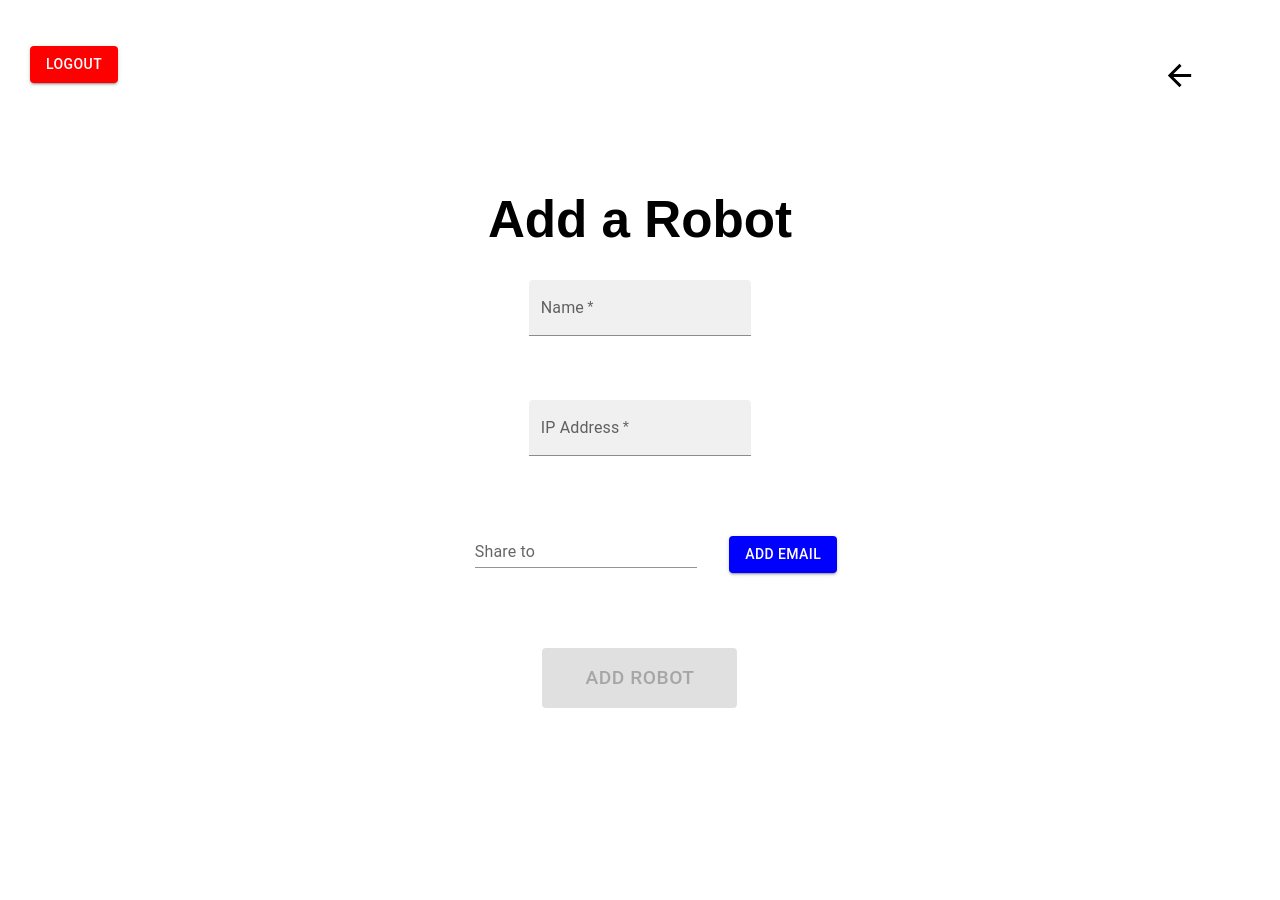
Test case: AddRobotPage › adds a robot, updates profiles, shows snackbar and supports copy ID
The image size is (1280, 900).
Type "My Robot" into the field labelled "Name *" at x=640, y=308, box [529, 280, 751, 336]
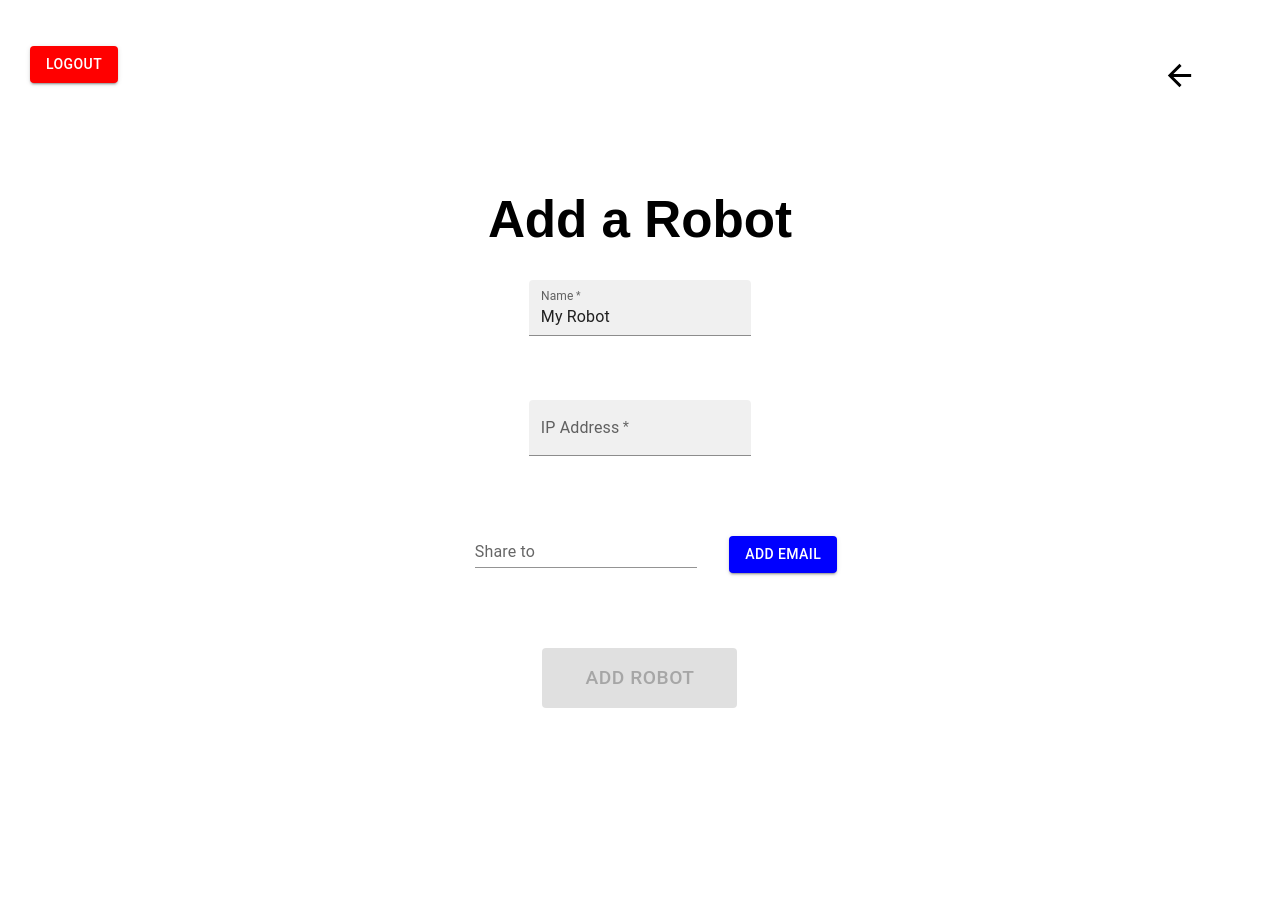
Type "10.0.0.42" into the field labelled "IP Address *" at x=640, y=428, box [529, 400, 751, 456]
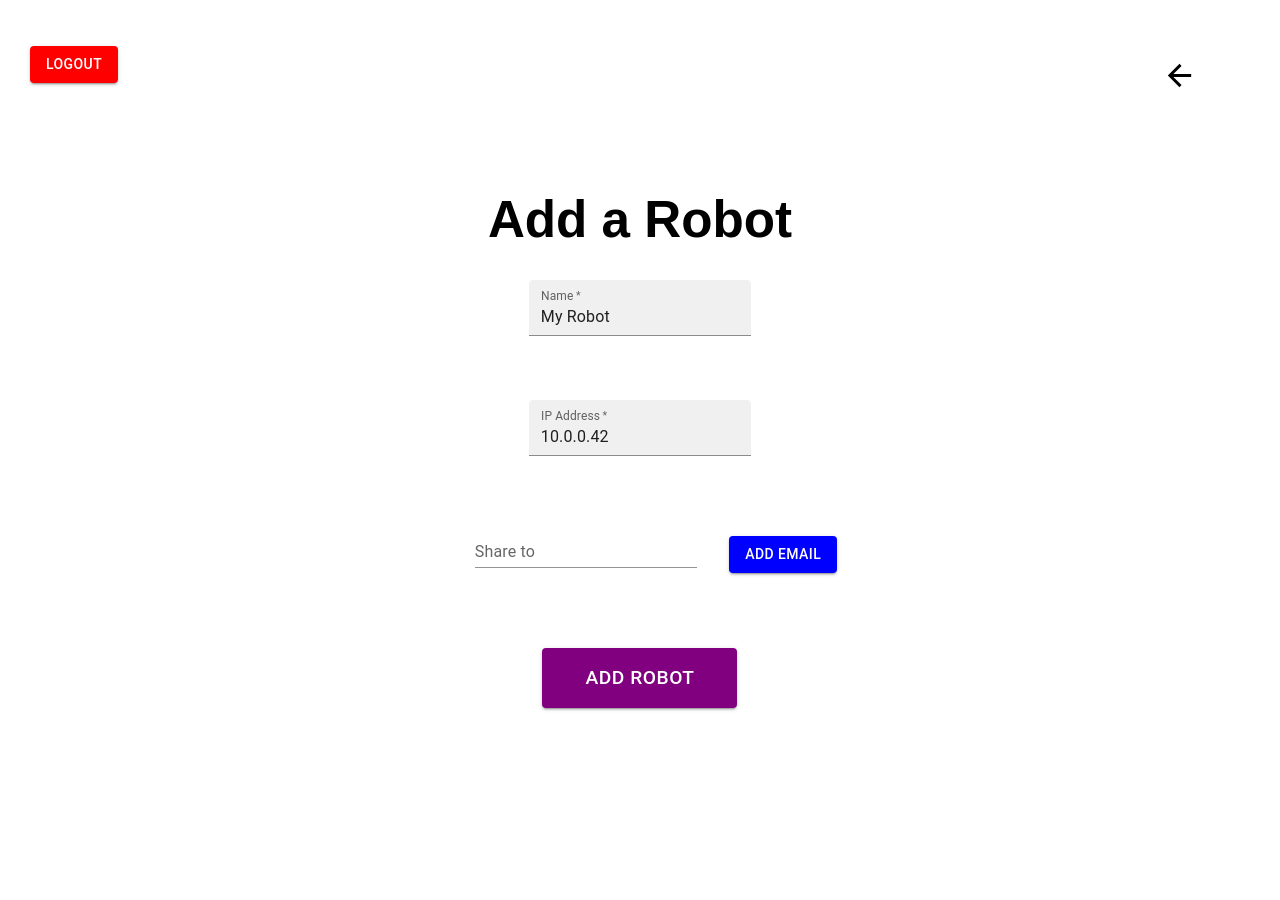
Click the button "Add Robot" at x=640, y=678, box [542, 648, 738, 708]
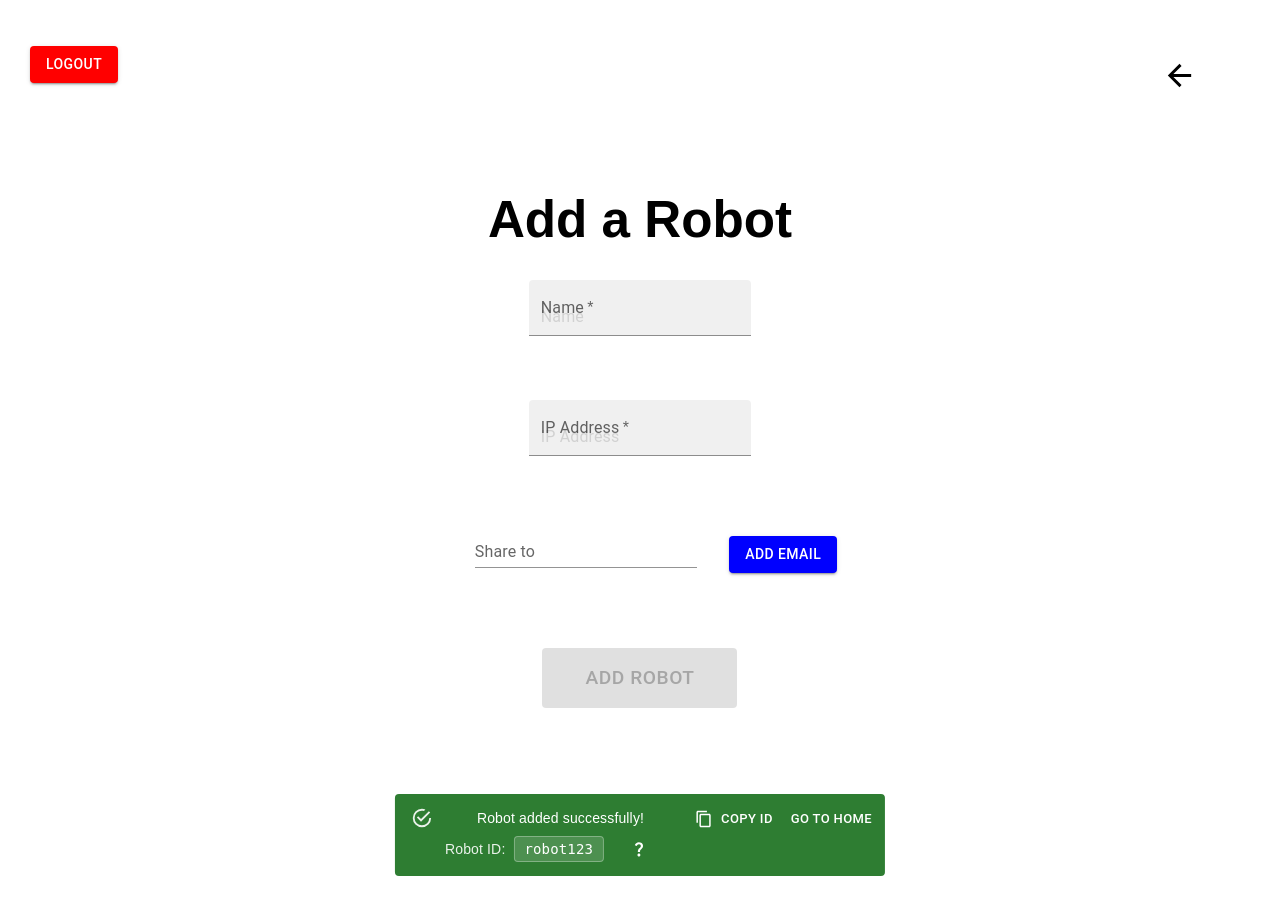
Check: the text "robot123" is shown, box [513, 836, 604, 862]
Check: the text "Robot added successfully!" is shown, box [477, 810, 644, 826]
Click the button "Copy ID" at x=735, y=819, box [692, 804, 778, 835]
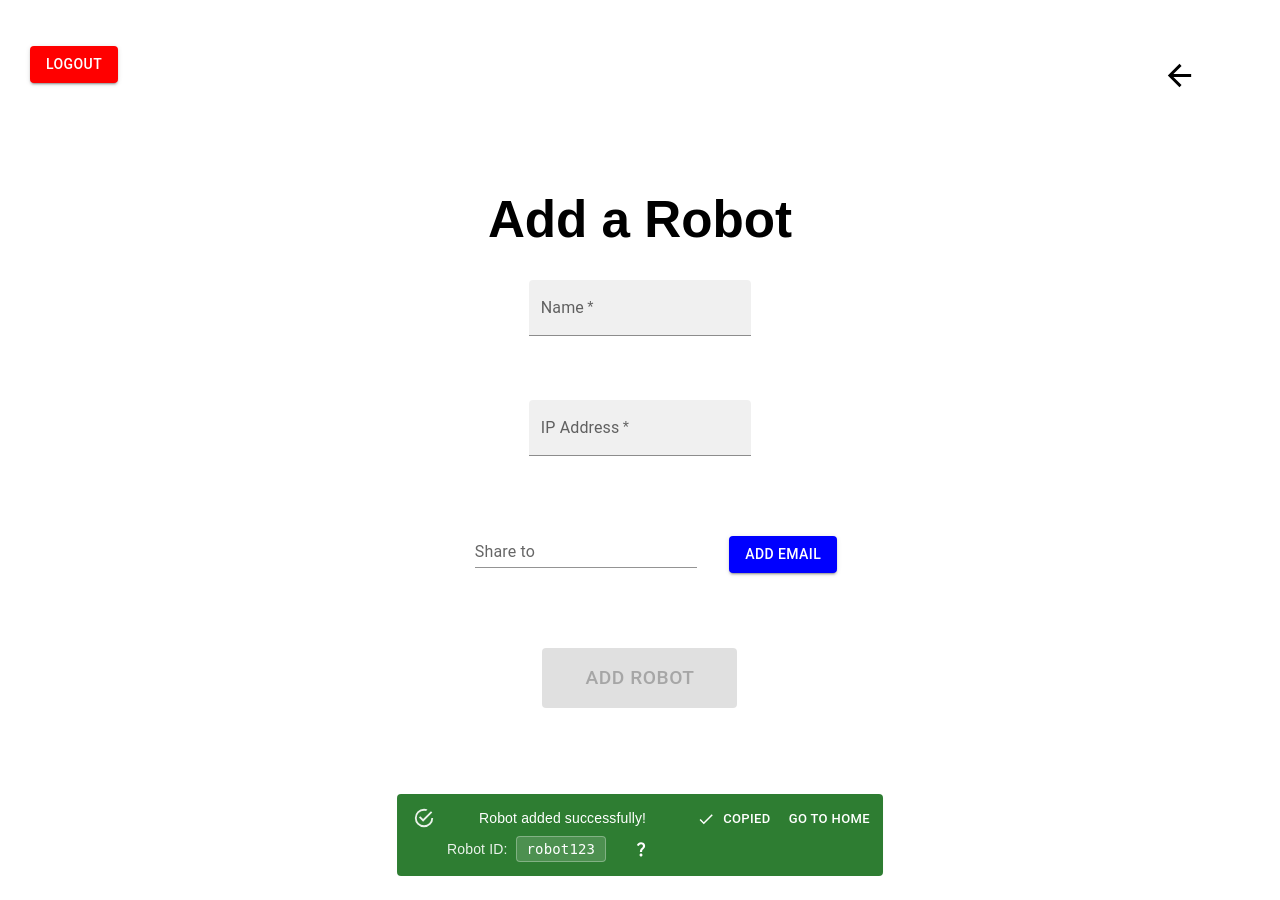
Check: the button "Copied" is shown, box [694, 804, 776, 835]
